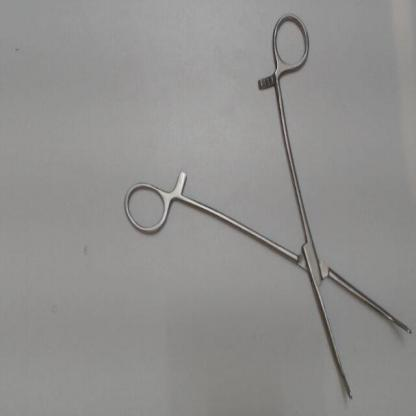Lahey Forceps: (119, 7, 414, 406)
